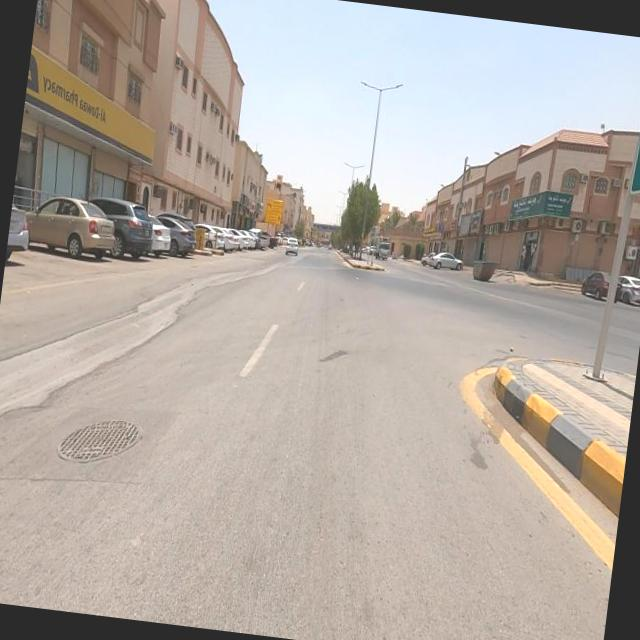debris: (439, 178, 488, 262)
